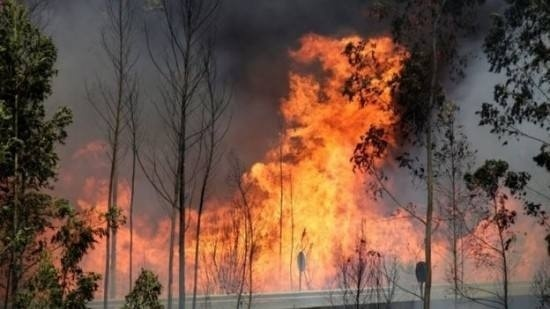fire: (92, 26, 522, 289)
